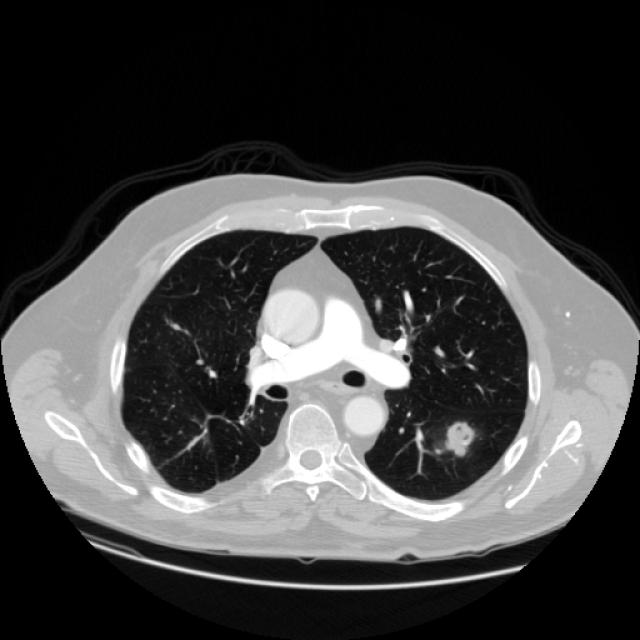nodule: (424, 401, 494, 471)
